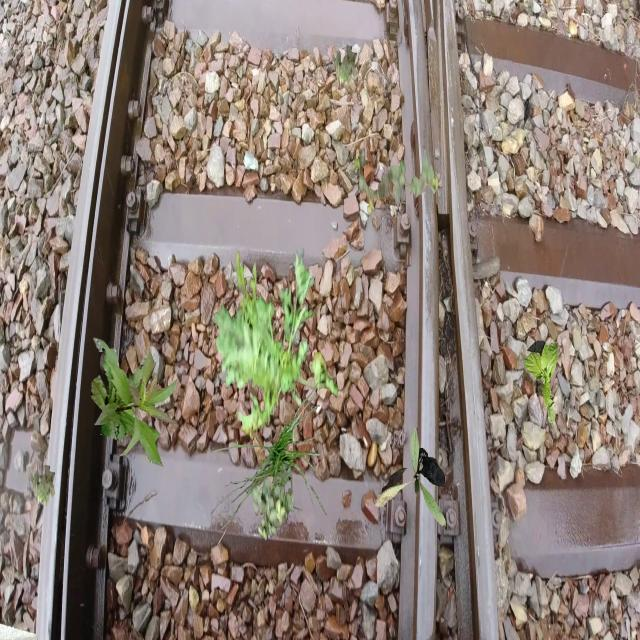Plant: (214, 247, 339, 443), (210, 382, 328, 546), (91, 337, 180, 467), (374, 427, 446, 526), (352, 147, 438, 216), (523, 340, 558, 423), (251, 475, 294, 542), (332, 45, 358, 88), (30, 465, 56, 508)
